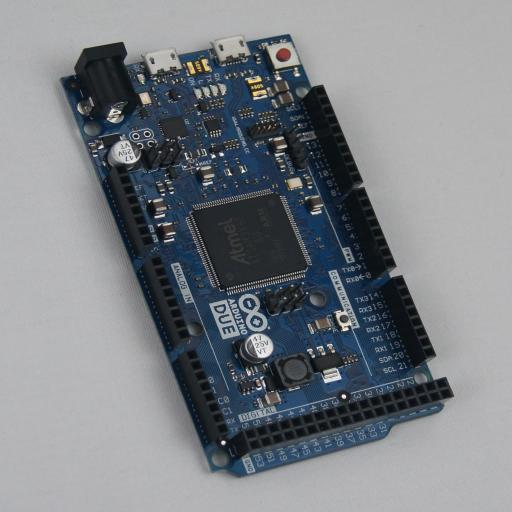Arduino Due: (60, 34, 454, 478)
